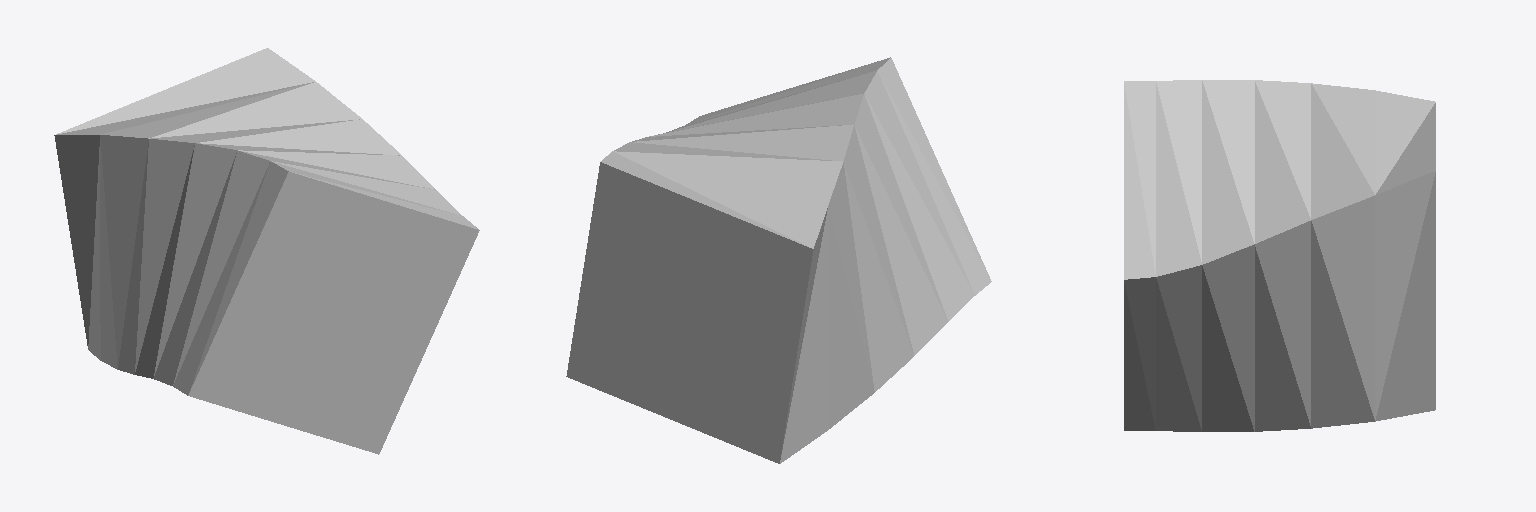
The model's file is quirk.obj.
The picture shows the model from 3 angles: view 1: azimuth 30°, elevation 25°; view 2: azimuth 150°, elevation 25°; view 3: azimuth 270°, elevation 25°; orthographic projection.
Parts seen in each view (by area): view 1: Cube.002; view 2: Cube.002; view 3: Cube.002.
Part boxes in pixels (left/top/right/bottom): Cube.002: left=54, top=48, right=479, bottom=454; Cube.002: left=566, top=57, right=991, bottom=463; Cube.002: left=1124, top=80, right=1435, bottom=431.
Size of the model in its own units: 2.7 by 2.7 by 2.5.